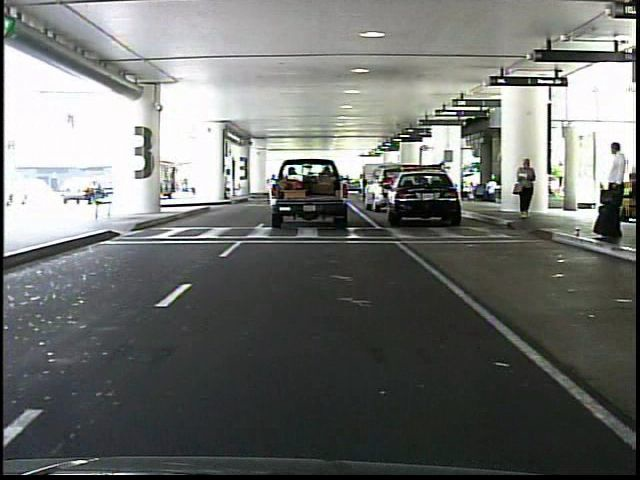person: (593, 138, 627, 244), (515, 150, 542, 224)
